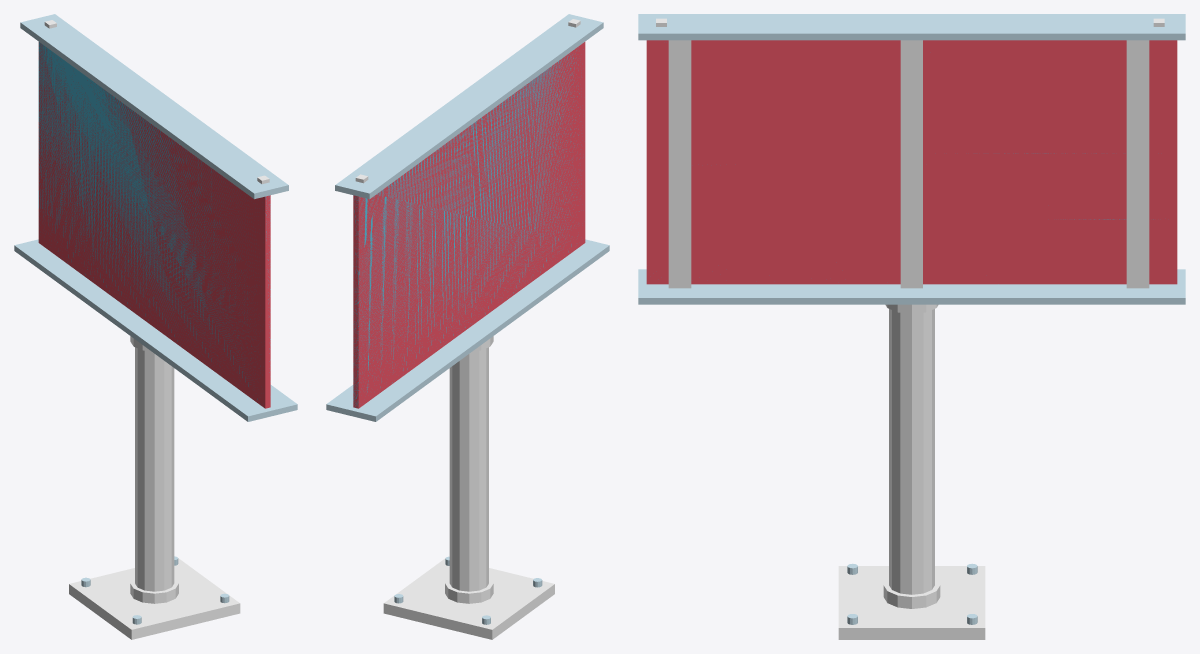
File: Bigboards.fbx
3 renders of one model, left to right at view 1: azimuth 30°, elevation 25°; view 2: azimuth 150°, elevation 25°; view 3: azimuth 270°, elevation 25°, orthographic. The views are drawn at different scales.
Parts seen in each view (by area): view 1: Board, Board_2, Cylinder, Cube_3, Cube_1, Cube, Cube_3_2, Cylinder_6, Cube_1_2; view 2: Board, Board_2, Cylinder, Cube_3, Cube_1, Cube_3_2, Cube, Cube_2, Cube_1_2, Cylinder_6; view 3: Board, Cube_3, Cube_1, Cylinder, Cylinder_2_2, Cube_3_2, Cube, Cube_6, Cube_4, Cube_5, Cylinder_6.
Boxes of the visible parts, bbox=[...] form: Board: bbox=[38, 42, 270, 408]; Board_2: bbox=[38, 42, 270, 404]; Cylinder: bbox=[135, 347, 174, 591]; Cube_3: bbox=[21, 14, 288, 199]; Cube_1: bbox=[14, 239, 297, 421]; Cube: bbox=[69, 558, 240, 639]; Cube_3_2: bbox=[20, 14, 288, 198]; Cylinder_6: bbox=[130, 578, 178, 603]; Cube_1_2: bbox=[14, 246, 237, 408]; Board: bbox=[353, 42, 585, 408]; Board_2: bbox=[353, 47, 583, 407]; Cylinder: bbox=[449, 347, 488, 591]; Cube_3: bbox=[335, 14, 603, 199]; Cube_1: bbox=[326, 239, 609, 421]; Cube_3_2: bbox=[335, 15, 603, 198]; Cube: bbox=[383, 558, 554, 639]; Cube_2: bbox=[383, 566, 553, 639]; Cube_1_2: bbox=[336, 246, 609, 419]; Cylinder_6: bbox=[445, 578, 493, 603]; Board: bbox=[646, 40, 1177, 284]; Cube_3: bbox=[638, 14, 1185, 40]; Cube_1: bbox=[638, 269, 1185, 304]; Cylinder: bbox=[889, 309, 934, 594]; Cylinder_2_2: bbox=[889, 309, 934, 594]; Cube_3_2: bbox=[638, 14, 1185, 40]; Cube: bbox=[838, 566, 985, 639]; Cube_6: bbox=[1126, 40, 1149, 288]; Cube_4: bbox=[668, 40, 691, 288]; Cube_5: bbox=[900, 40, 922, 288]; Cylinder_6: bbox=[883, 578, 940, 608].
Size of the model in its own units: 47.89 by 212 by 179.
